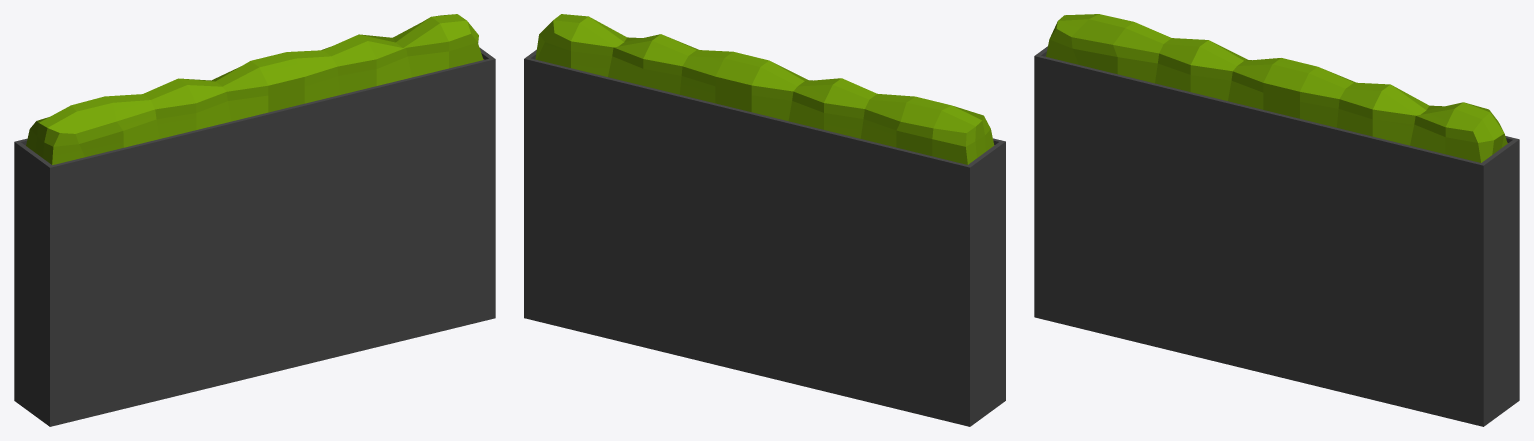
File: SM_Props_Plant_07.fbx
3 views of the same model, side by side, from view 1: azimuth 30°, elevation 25°; view 2: azimuth 150°, elevation 25°; view 3: azimuth 330°, elevation 25° (orthographic).
Parts seen in each view (by area): view 1: SM_Props_Plant_07; view 2: SM_Props_Plant_07; view 3: SM_Props_Plant_07.
Part boxes in pixels (box(x1,y1,x2,y2)): SM_Props_Plant_07: box(14, 14, 495, 426); SM_Props_Plant_07: box(524, 14, 1005, 426); SM_Props_Plant_07: box(1034, 14, 1519, 426).
Size of the model in its own units: 1.44 by 0.9121 by 0.2.
